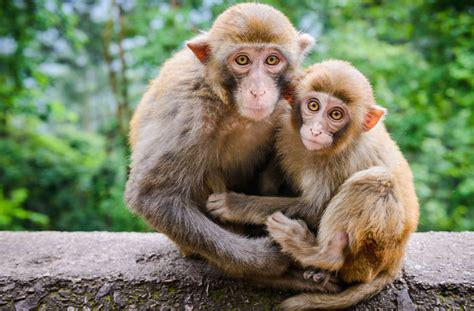monkey: (125, 4, 314, 277), (270, 61, 417, 309)
